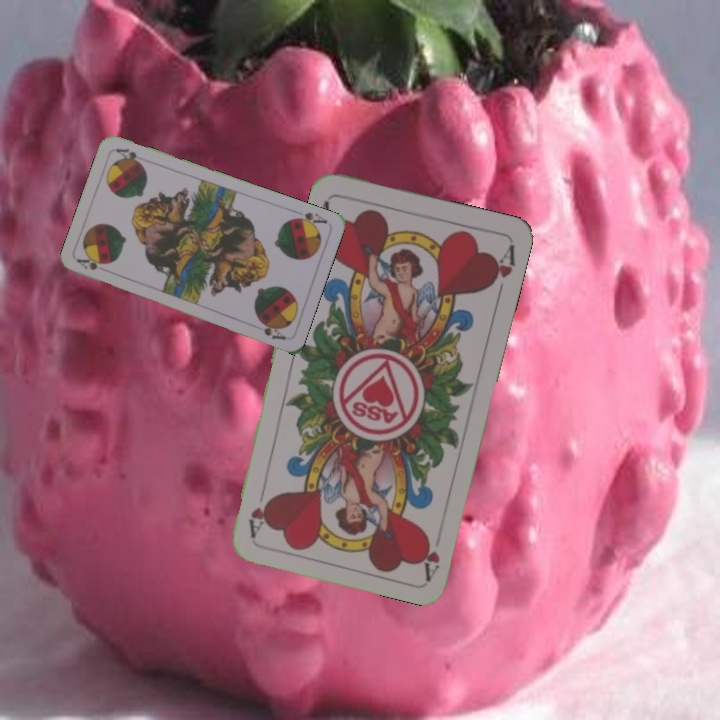HA: (417, 532, 443, 581)
SA: (288, 207, 330, 230), (73, 255, 113, 275)
